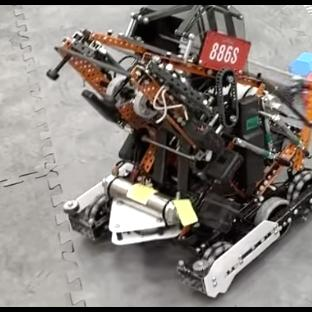Robot: (47, 5, 311, 297)
